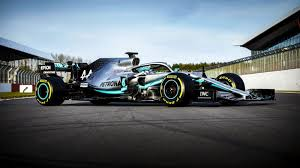FormulaOneCar: (32, 49, 279, 112)
